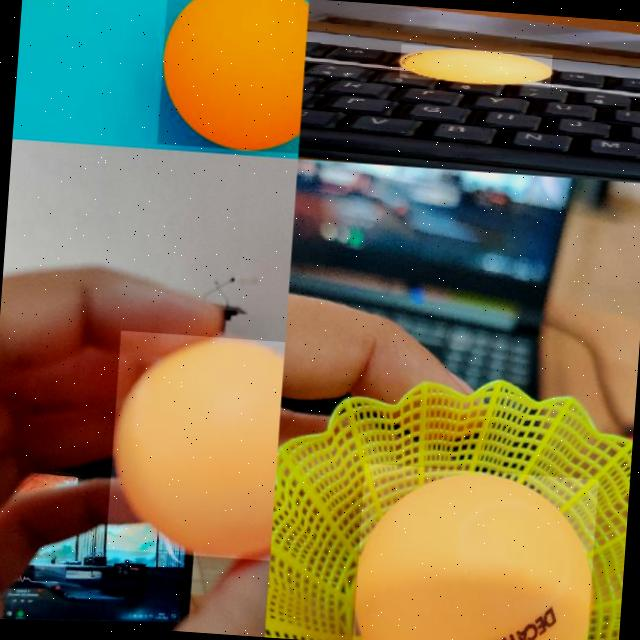ping-pong-ball: (351, 462, 599, 640), (104, 330, 284, 563), (154, 0, 307, 155), (398, 43, 554, 88)
